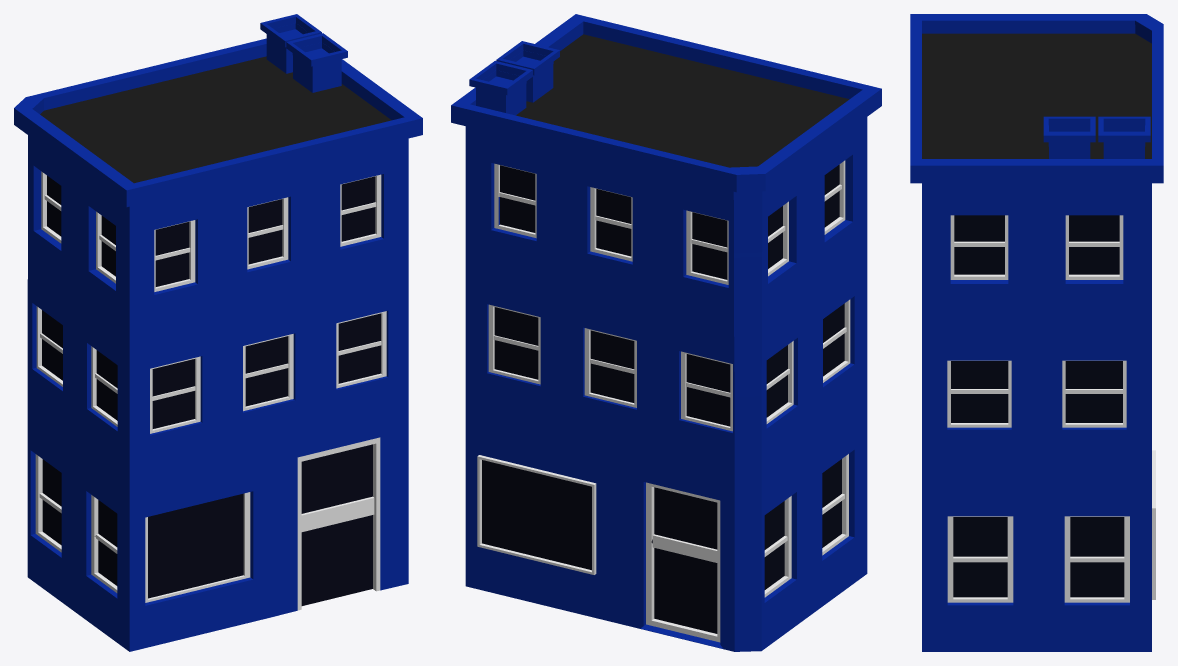
Rendered from house_4.fbx.
The picture shows the model from 3 angles, left to right: view 1: azimuth 30°, elevation 25°; view 2: azimuth 150°, elevation 25°; view 3: azimuth 270°, elevation 25°; orthographic projection. The views are drawn at different scales.
Visible parts, largest first — view 1: Plane.146; view 2: Plane.146; view 3: Plane.146.
Part boxes in pixels (x1=…): Plane.146: x1=14, y1=14, x2=422, y2=651; Plane.146: x1=451, y1=14, x2=881, y2=651; Plane.146: x1=910, y1=14, x2=1163, y2=651.
Bounding box in the file's own units: 752 × 1191 × 531.
